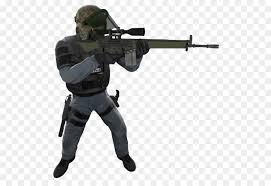gun: (76, 26, 220, 66)
